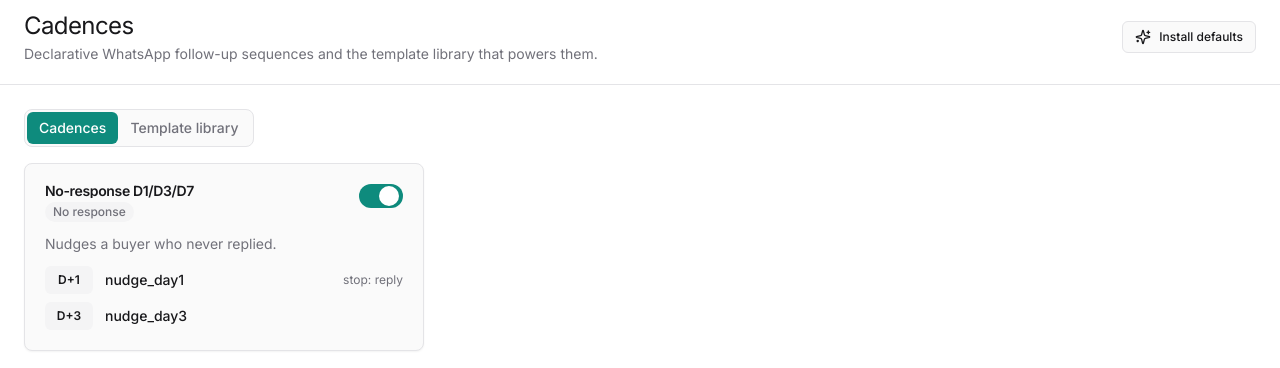
it: the template library › shows the name, category, approval state and body
Step 1. Click the button "Template library" → (184, 128), box x1=118 y1=112 x2=250 y2=144
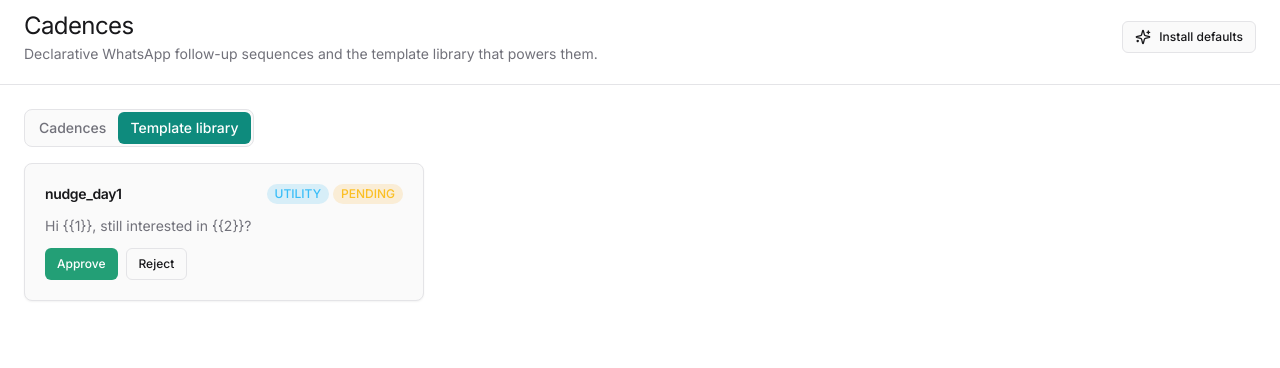
Expected: the text "UTILITY" is shown, x1=267 y1=184 x2=329 y2=204
Expected: the text "PENDING" is shown, x1=333 y1=184 x2=403 y2=204
Expected: the text "Hi {{1}}, still interested in {{2}}?" is shown, x1=45 y1=217 x2=252 y2=234
